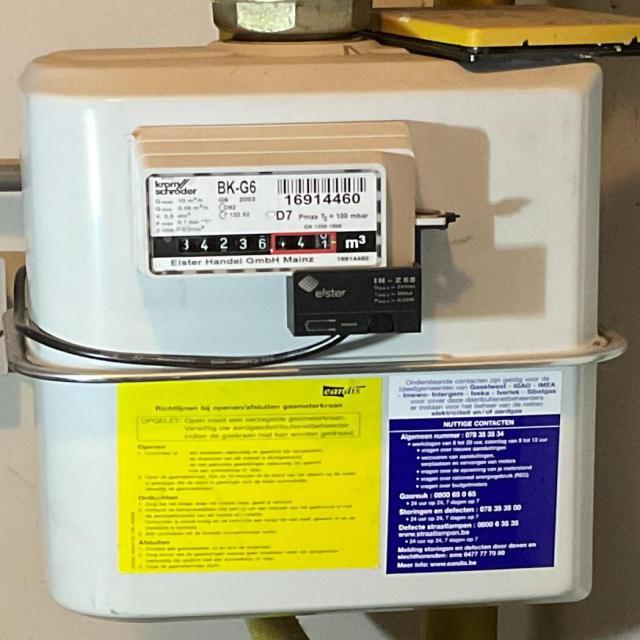gaz_meter: (144, 174, 386, 266)
indication: (159, 229, 345, 261)
